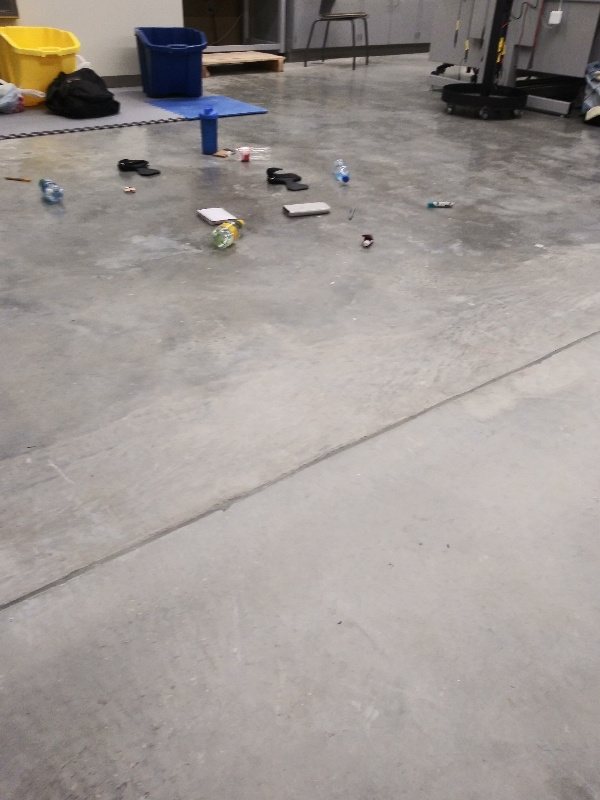bottle: (208, 217, 249, 252), (222, 145, 276, 164), (34, 177, 69, 205), (328, 156, 353, 185)
